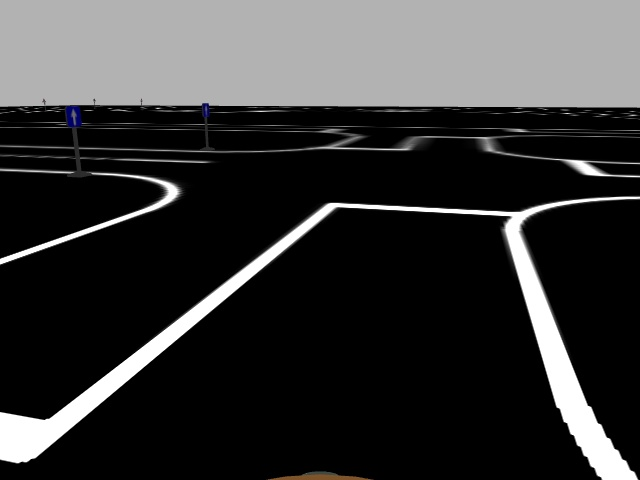oneway: (63, 105, 84, 130)
